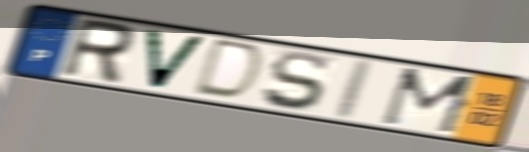D: (188, 36, 268, 103)
I: (328, 56, 378, 123)
M: (376, 65, 483, 137)
R: (55, 16, 139, 87)
S: (259, 50, 330, 113)
V: (141, 26, 210, 93)
